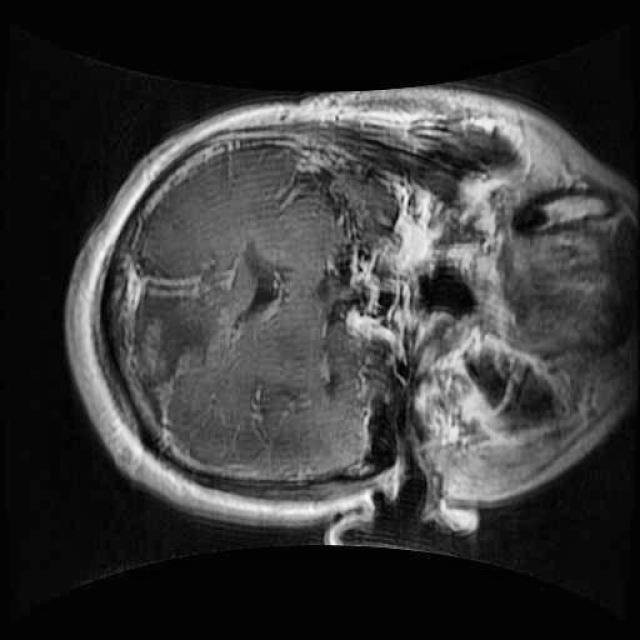Non-Tumor: (106, 256, 254, 428)
